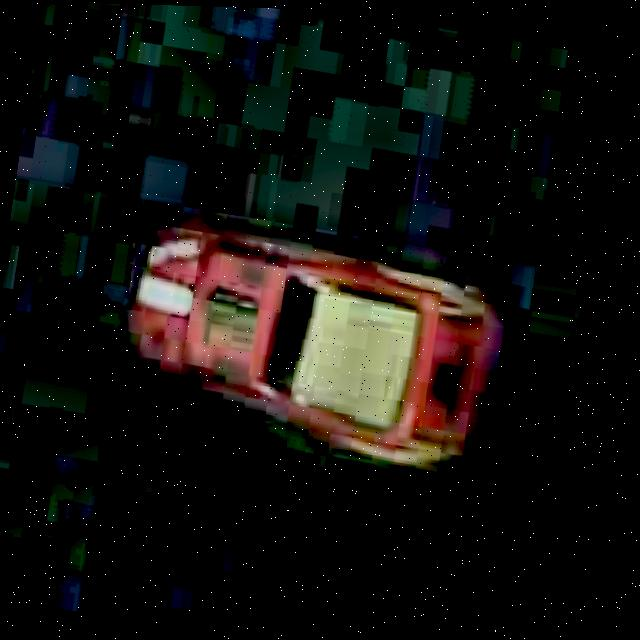car: (100, 202, 515, 486)
